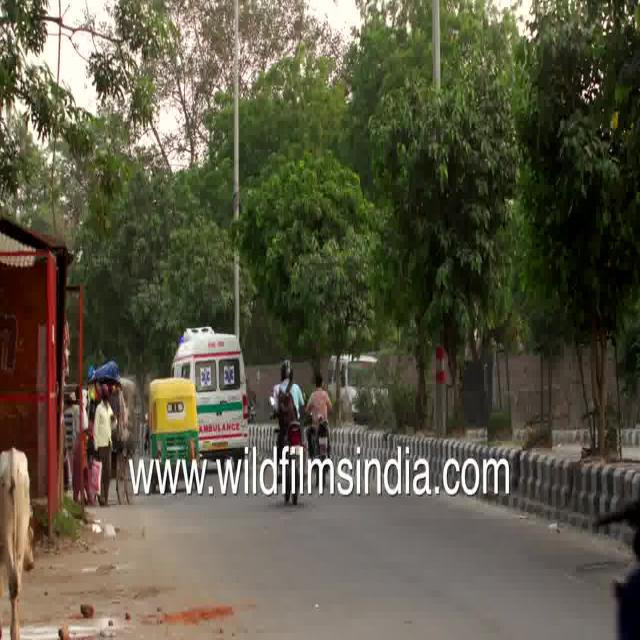ambulance: (171, 326, 251, 454)
